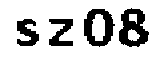0: (78, 3, 114, 50)
8: (117, 5, 150, 50)
s: (14, 17, 40, 49)
z: (44, 15, 75, 52)
